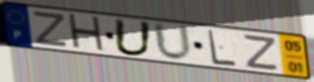H: (65, 12, 108, 55)
L: (206, 28, 238, 68)
U: (151, 21, 195, 63), (112, 17, 154, 58)
Z: (243, 34, 281, 73), (32, 10, 70, 49)
